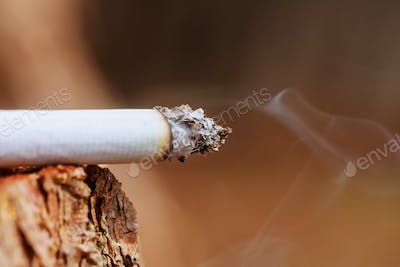cigarette: (1, 102, 235, 172)
